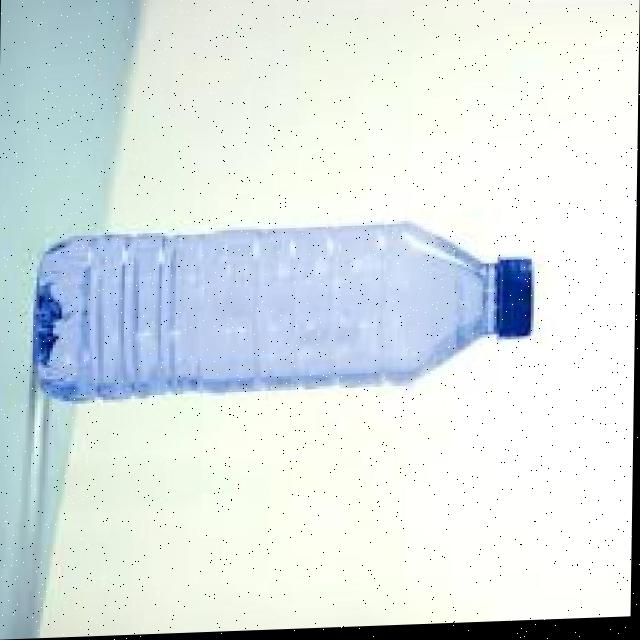bottle: (16, 174, 557, 402)
